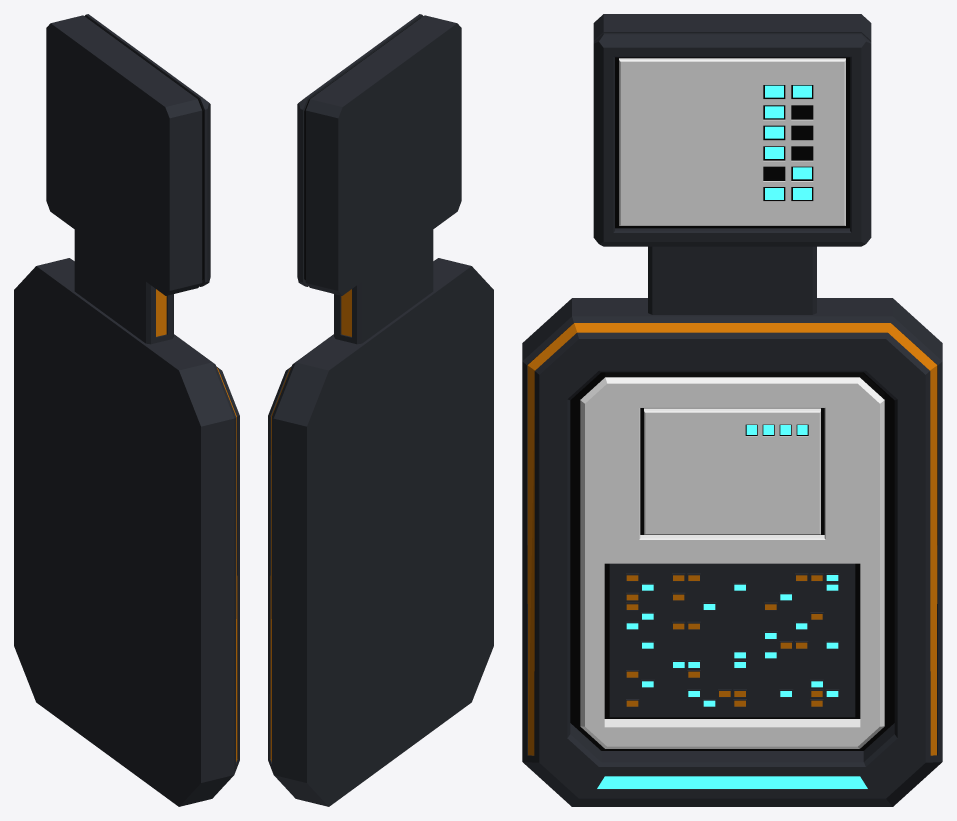
File: SM_WallDecor_Utility_Vertical.glb
3 views of the same model, side by side, from view 1: azimuth 30°, elevation 25°; view 2: azimuth 150°, elevation 25°; view 3: azimuth 270°, elevation 25° (orthographic). The views are drawn at different scales.
Parts seen in each view (by area): view 1: SM_WallDecor_Utility_Vertical.001; view 2: SM_WallDecor_Utility_Vertical.001; view 3: SM_WallDecor_Utility_Vertical.001.
Part boxes in pixels (x1,y1,x2,y2): SM_WallDecor_Utility_Vertical.001: [14, 14, 239, 806]; SM_WallDecor_Utility_Vertical.001: [268, 14, 493, 806]; SM_WallDecor_Utility_Vertical.001: [522, 14, 942, 806].
Size of the model in its own units: 0.5731 by 8.14 by 4.
